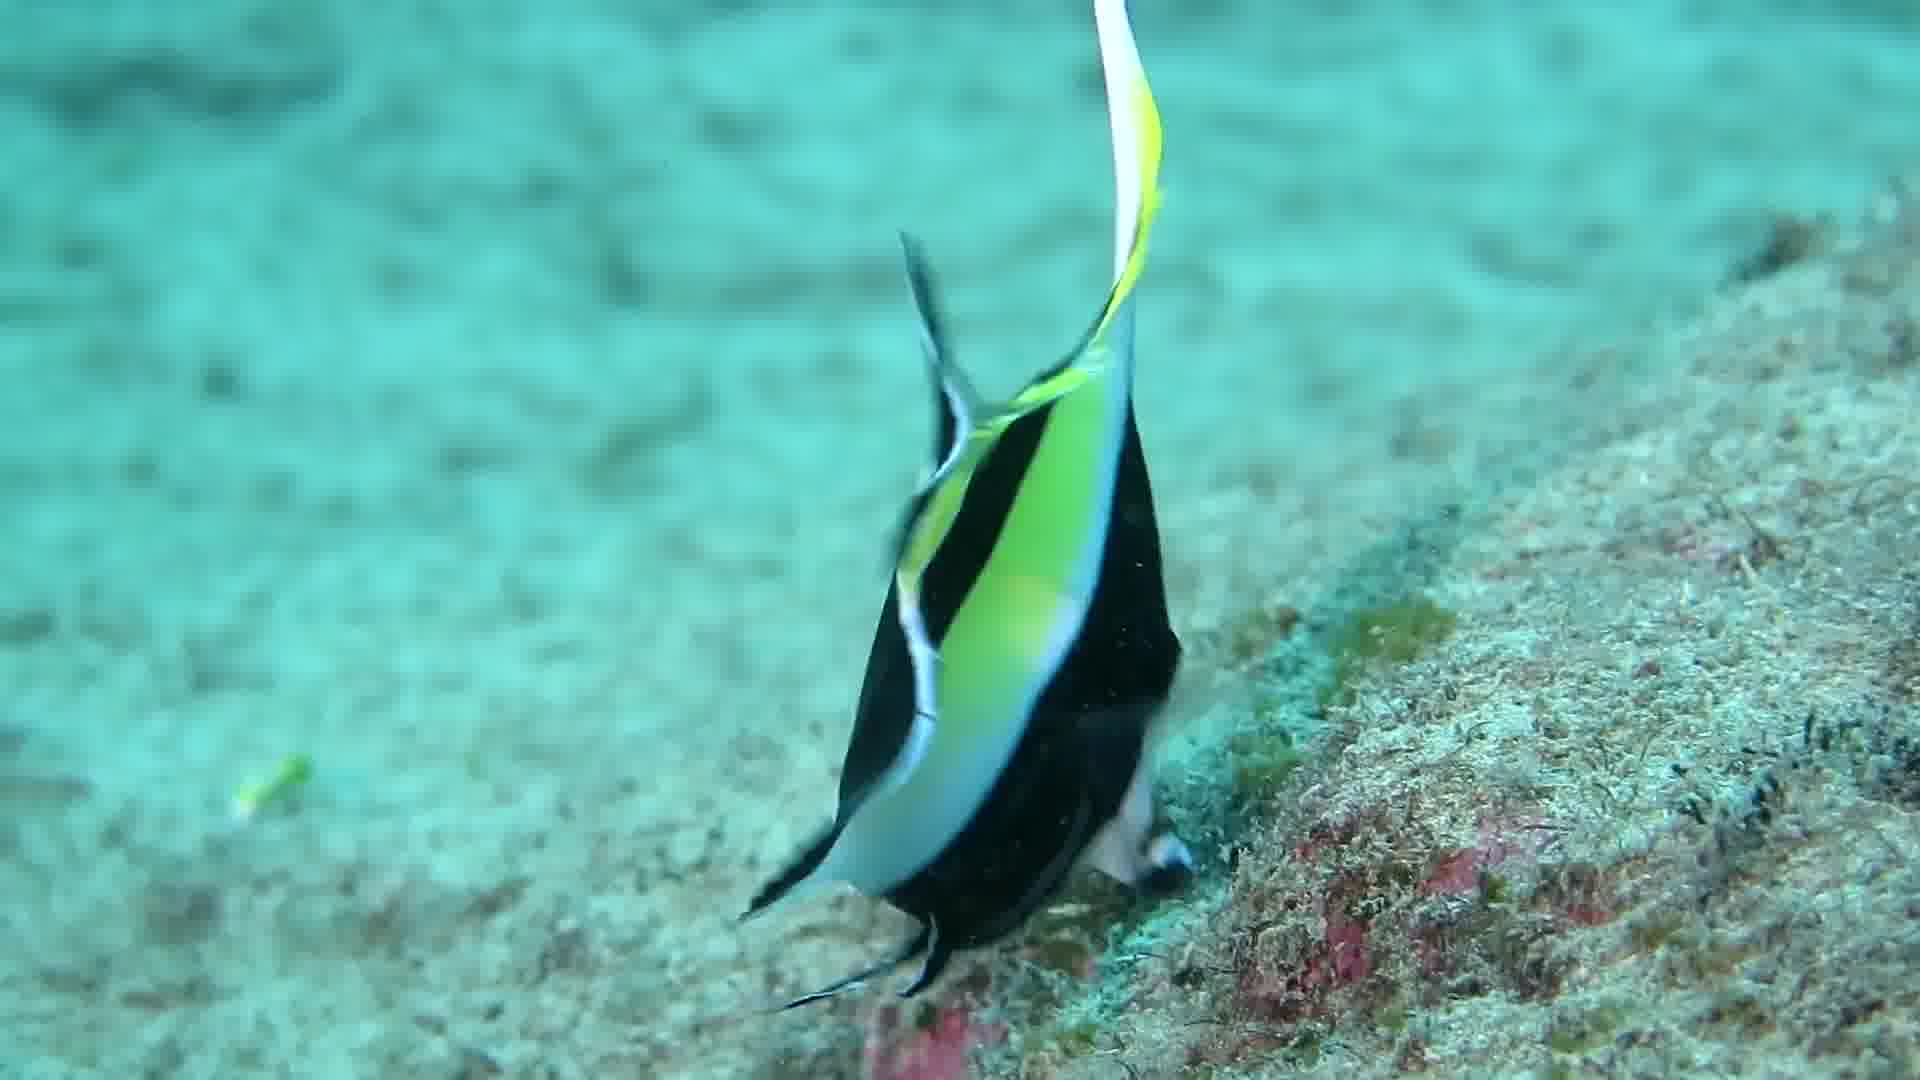Zanclus cornutus: (622, 272, 1302, 1033)
